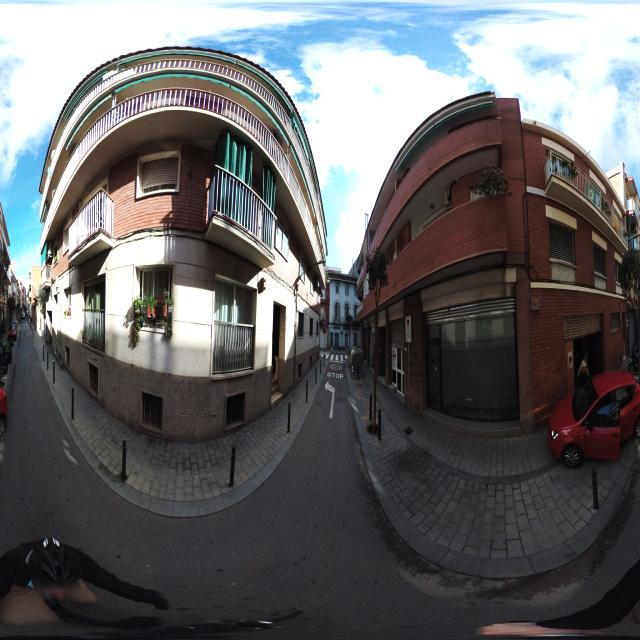car: (547, 383, 640, 468), (9, 320, 18, 338)
